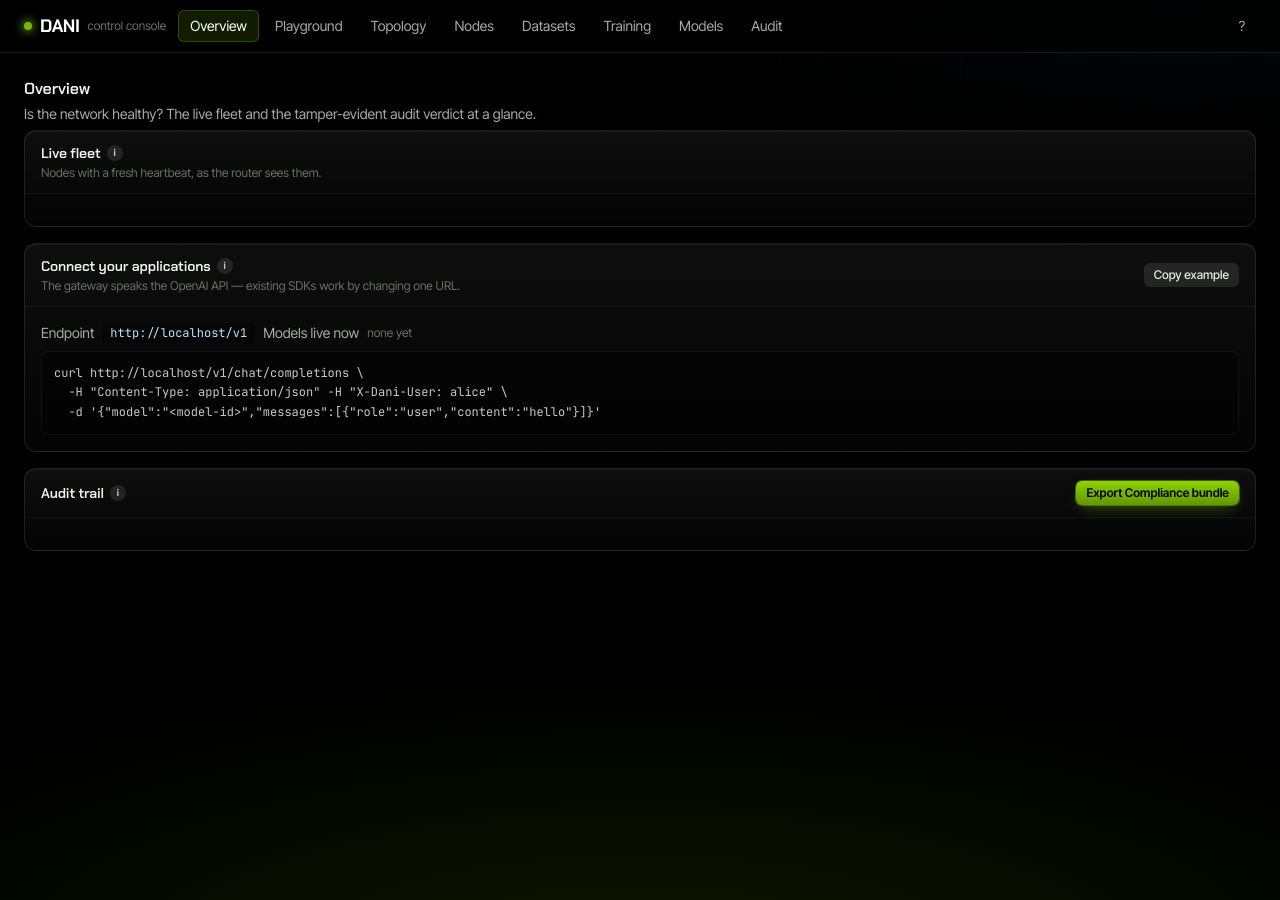
Test case: DANI console › manages nodes: drain flows through to the API
Click the tab "Nodes". click: x=474, y=26
box: 442,10 -> 506,42
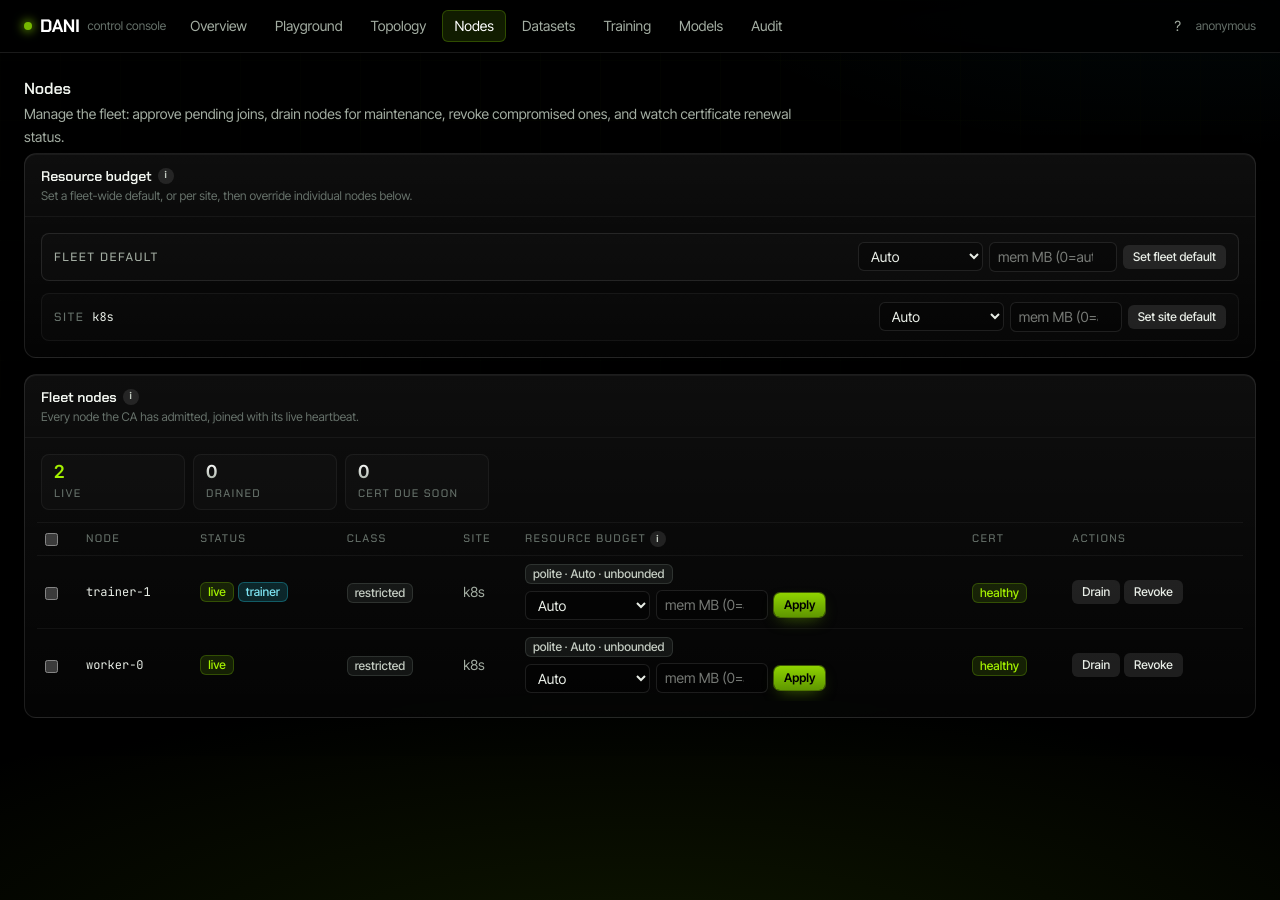
Expected: the text "worker-0" is shown, 86,657 -> 144,673
Click the button "Drain" in the row of "worker-0". click: x=1096, y=665
box: 1072,653 -> 1120,677
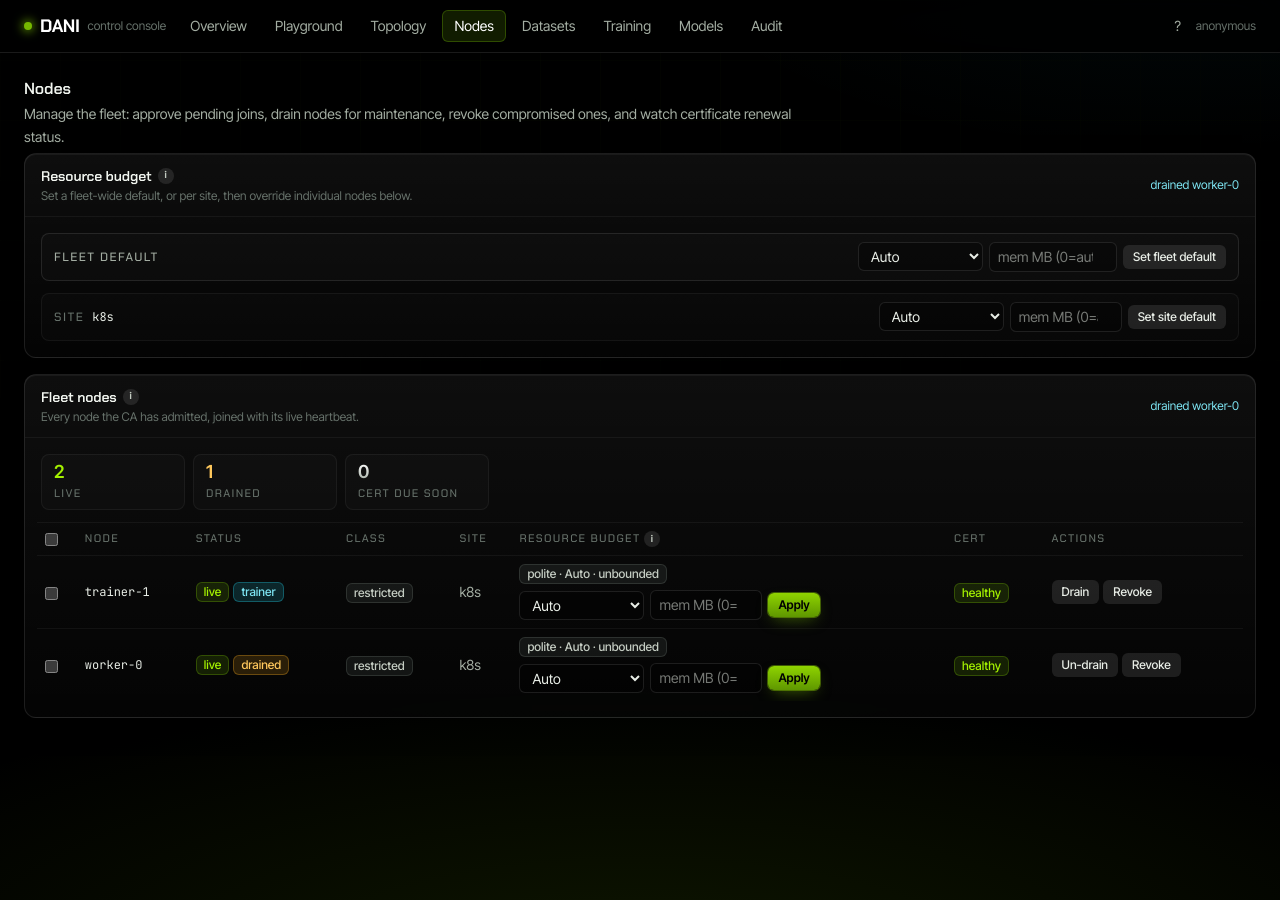
Expected: the button "Un-drain" is shown, 1052,653 -> 1118,677
